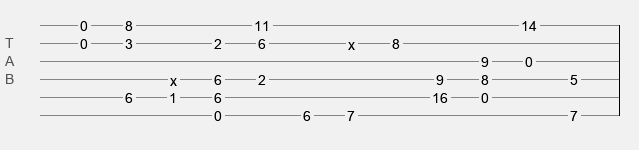0: (80, 18, 88, 28), (80, 36, 88, 46), (214, 108, 222, 118), (481, 90, 489, 100), (525, 54, 533, 64)
1: (169, 90, 177, 100)
11: (254, 18, 270, 28)
14: (521, 18, 537, 28)
16: (432, 90, 448, 100)
2: (214, 36, 222, 46), (258, 72, 266, 82)
3: (125, 36, 133, 46)
5: (570, 72, 578, 82)
6: (125, 90, 133, 100), (214, 90, 222, 100), (214, 72, 222, 82), (258, 36, 266, 46), (303, 108, 311, 118)
7: (347, 108, 355, 118), (570, 108, 578, 118)
8: (125, 18, 133, 28), (392, 36, 400, 46), (481, 72, 489, 82)
9: (436, 72, 444, 82), (481, 54, 489, 64)
x: (170, 73, 177, 81), (348, 37, 355, 45)
